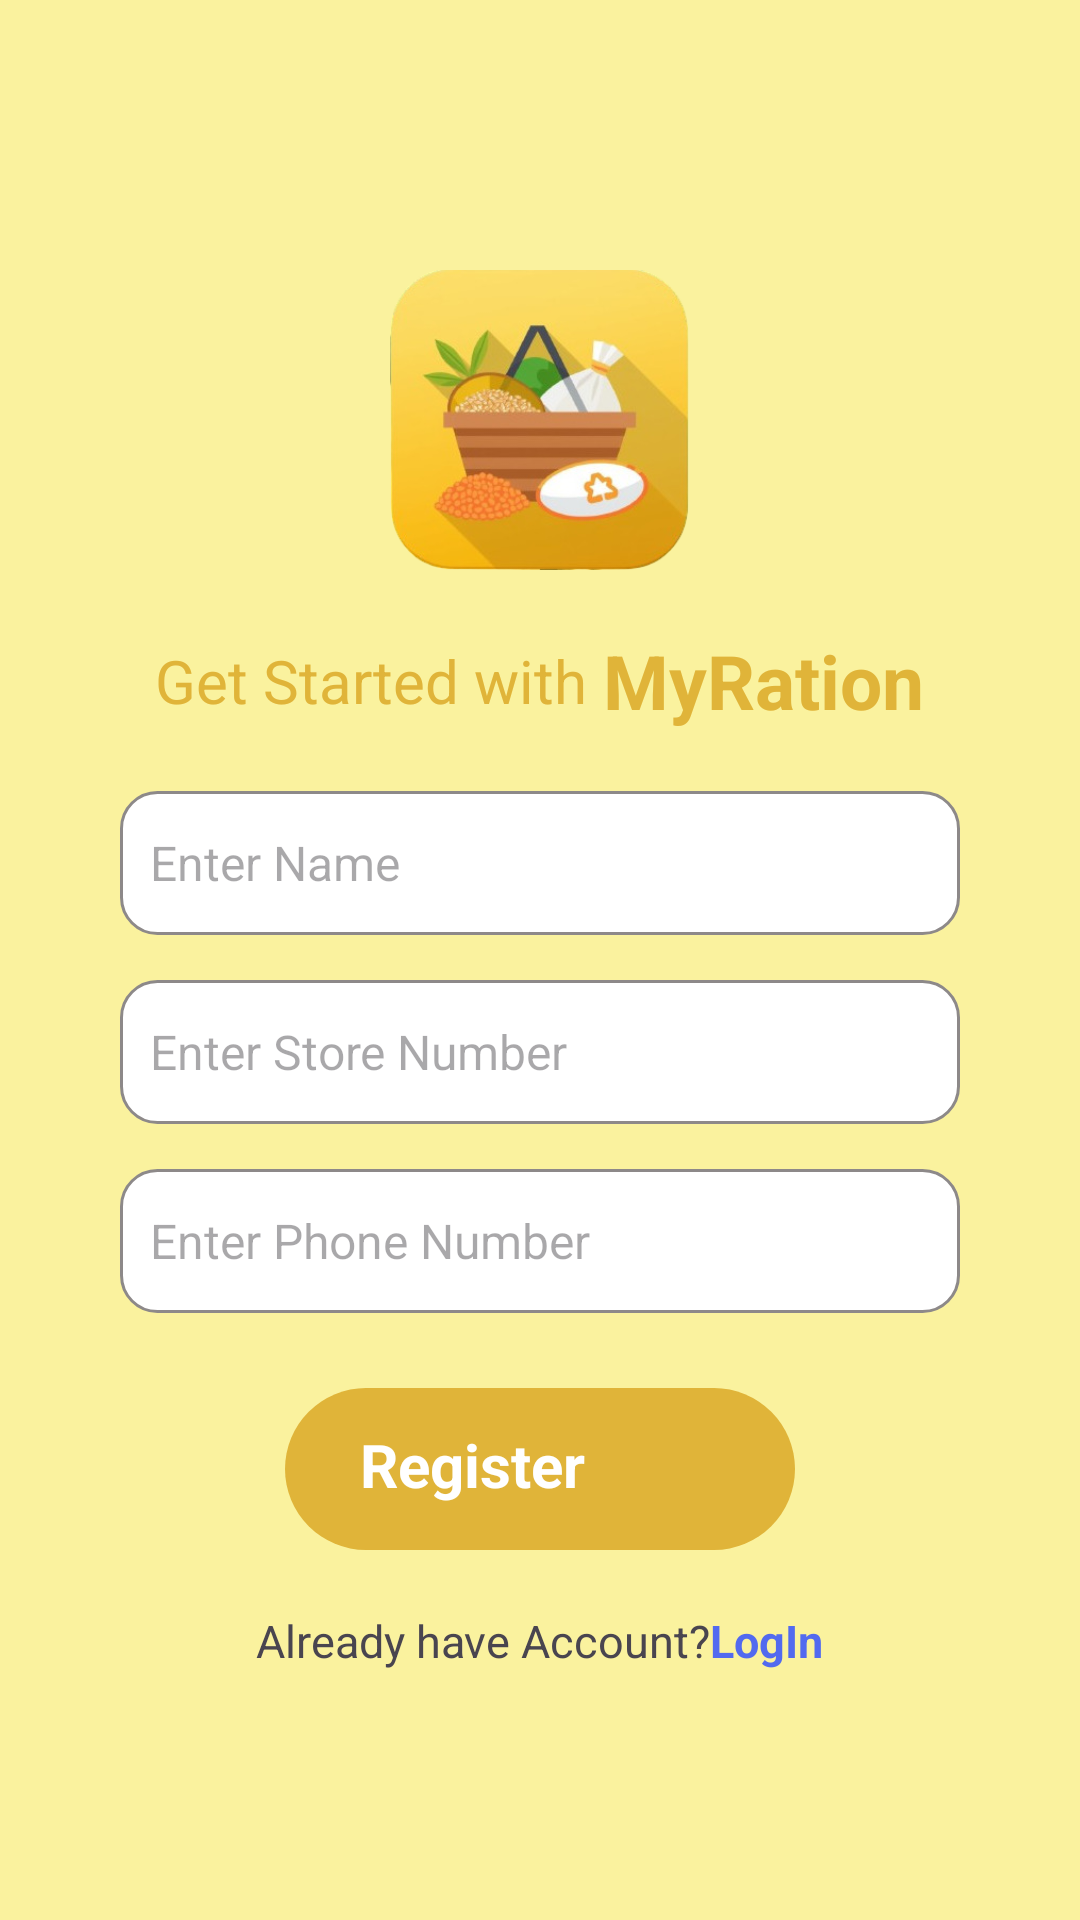

Named icons in this screenshot (1080x1920) and their bounding boxes, (x1, y1, x2, y2):
appicon: (390, 270, 688, 570)
